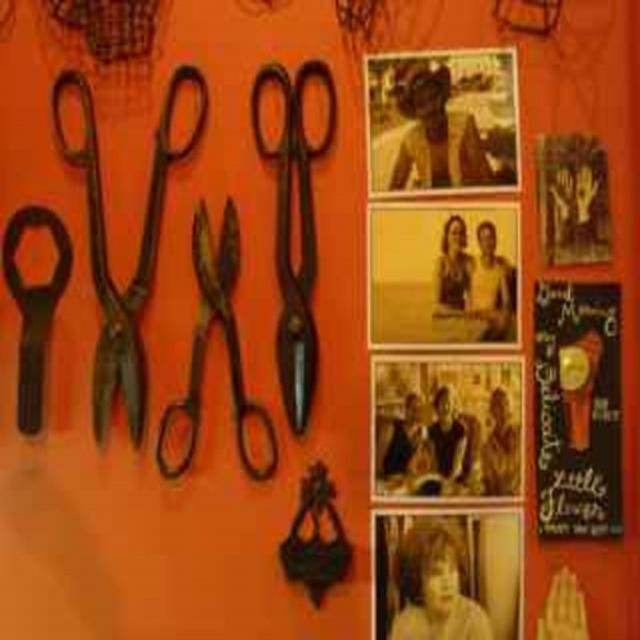scissor: (52, 58, 208, 453), (238, 56, 340, 434), (154, 192, 278, 488)
